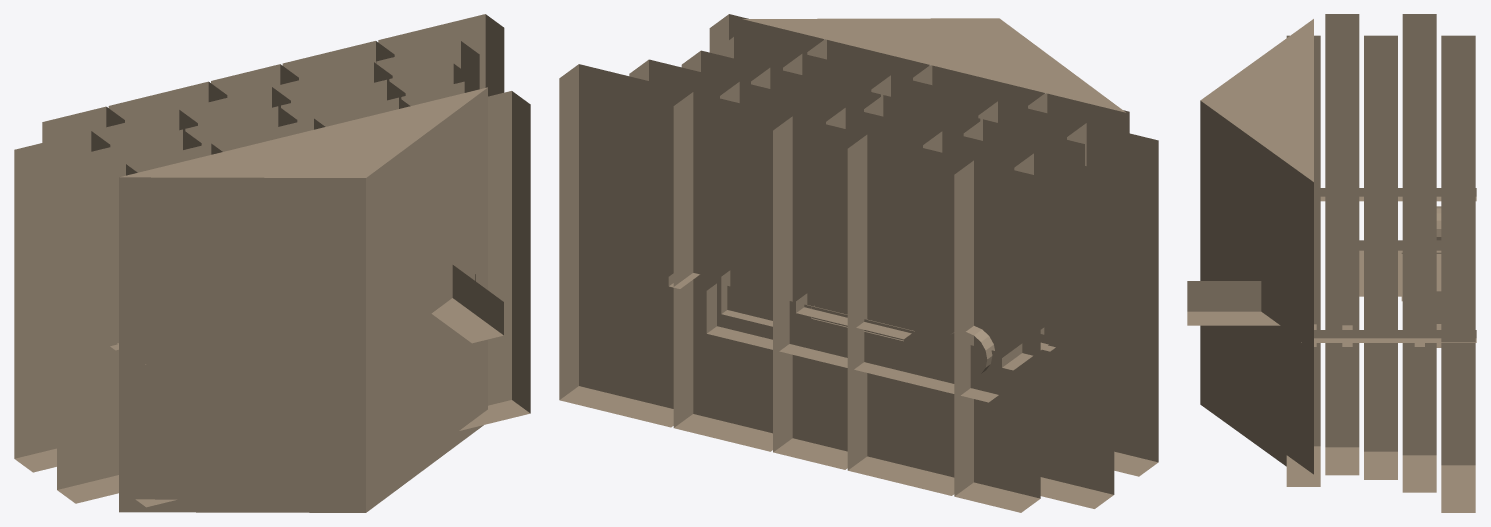
The model's file is blacksmith_shop.glb.
The picture shows the model from 3 angles, left to right: view 1: azimuth 30°, elevation 25°; view 2: azimuth 150°, elevation 25°; view 3: azimuth 270°, elevation 25°; orthographic projection. The views are drawn at different scales.
Visible parts, largest first — view 1: world; view 2: world; view 3: world.
Boxes of the visible parts, x1,y1,x2,y2 form: world: (14,14,530,512); world: (559,14,1158,512); world: (1187,14,1476,512).
Bounding box in the file's own units: 10 × 6.5 × 5.6.
